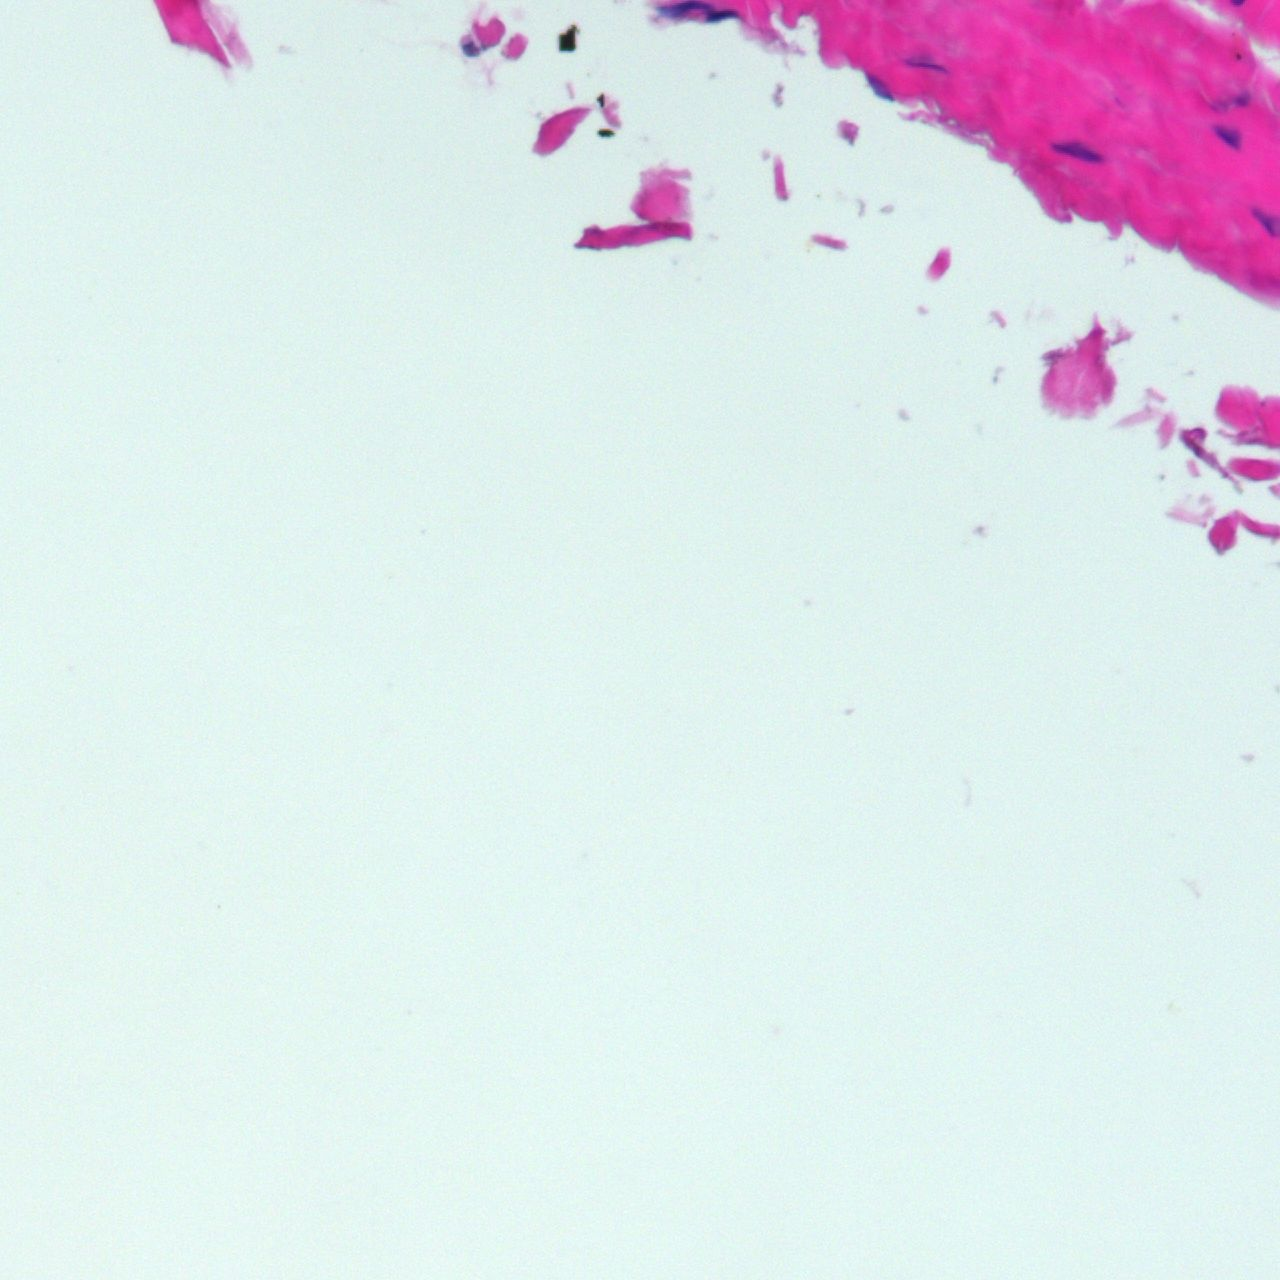dust: (558, 23, 580, 52), (597, 127, 615, 138), (595, 92, 605, 106)
nucleus-HE: (1048, 127, 1109, 170), (1204, 109, 1245, 157), (858, 62, 898, 107), (1248, 201, 1279, 240), (901, 56, 947, 73), (1232, 87, 1254, 106)
